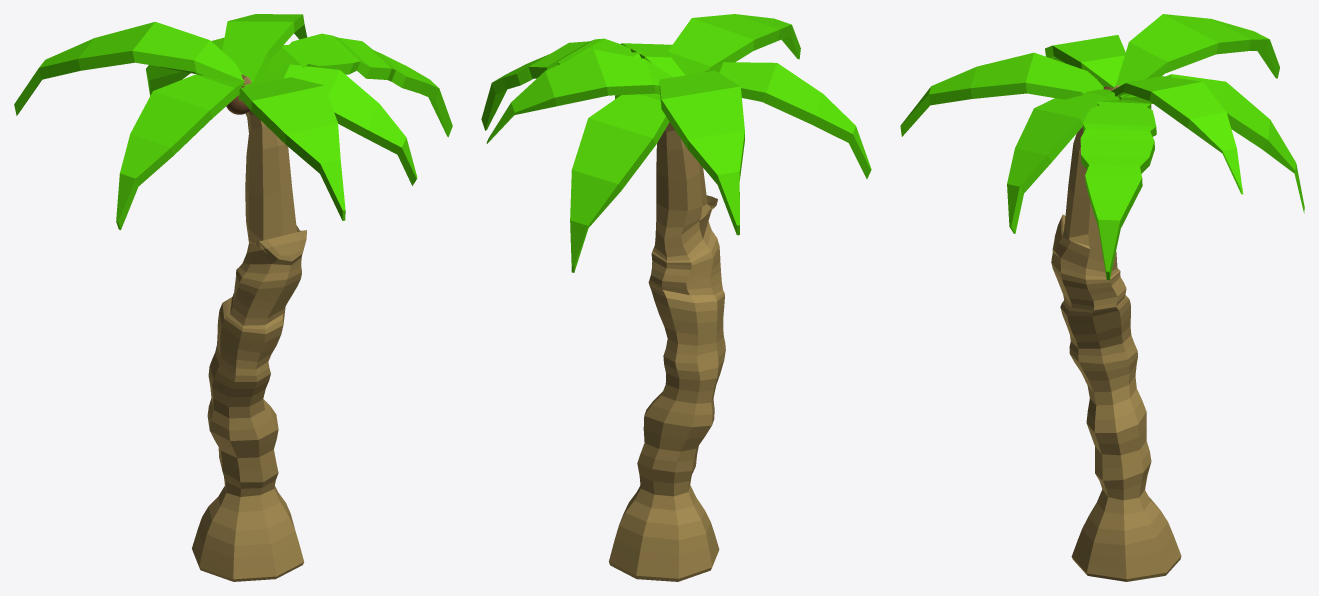
Rendered from пальма.fbx.
3 renders of one model, left to right at view 1: azimuth 30°, elevation 25°; view 2: azimuth 150°, elevation 25°; view 3: azimuth 270°, elevation 25°, orthographic. The views are drawn at different scales.
Visible parts, largest first — view 1: Cube, Plane, Plane.004, Plane.002, Plane.003, Plane.005, Plane.006, Plane.001; view 2: Cube, Plane.001, Plane.004, Plane.006, Plane, Plane.002, Plane.003, Plane.005; view 3: Cube, Plane.003, Plane.004, Plane.002, Plane.005, Plane.006, Plane.001, Plane.
Boxes of the visible parts, x1,y1,x2,y2 form: Cube: [192, 74, 306, 581]; Plane: [116, 74, 242, 229]; Plane.004: [14, 21, 244, 115]; Plane.002: [238, 77, 345, 220]; Plane.003: [262, 33, 452, 137]; Plane.005: [243, 64, 417, 185]; Plane.006: [222, 14, 307, 82]; Plane.001: [146, 37, 224, 95]; Cube: [609, 122, 725, 581]; Plane.001: [570, 93, 669, 272]; Plane.004: [659, 70, 744, 235]; Plane.006: [486, 49, 672, 143]; Plane: [703, 62, 871, 178]; Plane.002: [667, 14, 800, 75]; Plane.003: [481, 38, 640, 130]; Plane.005: [615, 43, 684, 99]; Cube: [1051, 85, 1181, 581]; Plane.003: [1080, 100, 1156, 280]; Plane.004: [1116, 14, 1279, 99]; Plane.002: [900, 52, 1103, 136]; Plane.005: [1007, 89, 1118, 233]; Plane.006: [1111, 76, 1243, 194]; Plane.001: [1118, 74, 1304, 213]; Plane: [1045, 35, 1125, 88].
Bounding box in the file's own units: 1747 × 2366 × 1731.
